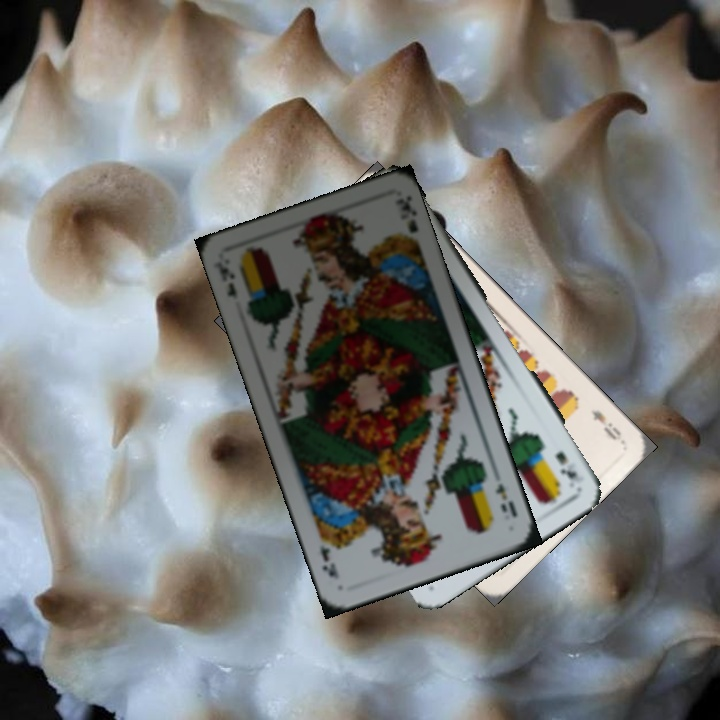E9: (587, 406, 626, 445)
EK: (211, 257, 240, 301), (490, 479, 520, 521), (551, 447, 582, 483)
